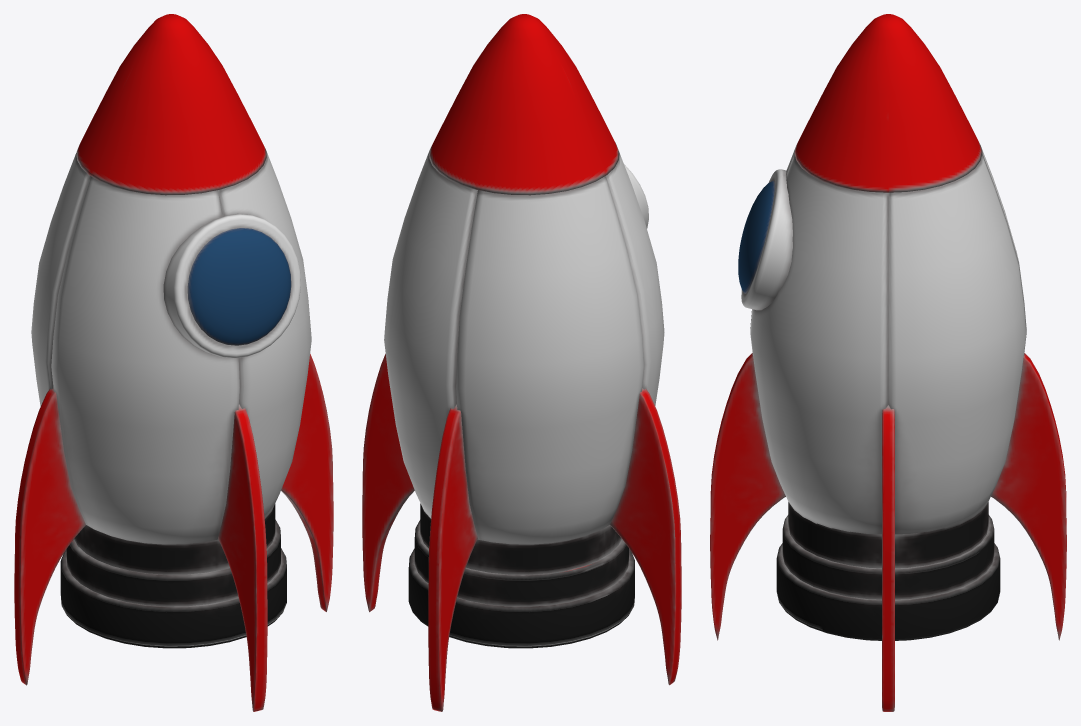
The picture shows the model from 3 angles, left to right: view 1: azimuth 30°, elevation 25°; view 2: azimuth 150°, elevation 25°; view 3: azimuth 270°, elevation 25°; orthographic projection.
Visible parts, largest first — view 1: Body, Wings, Tip, Engine, Window.001, Window; view 2: Body, Wings, Tip, Engine; view 3: Body, Wings, Tip, Engine, Window, Window.001.
Boxes of the visible parts, <box> form: Body: <box>31,150,311,544</box>; Wings: <box>14,354,333,711</box>; Tip: <box>76,14,266,195</box>; Engine: <box>60,504,286,648</box>; Window.001: <box>187,228,291,345</box>; Window: <box>163,213,300,358</box>; Body: <box>384,150,664,544</box>; Wings: <box>362,354,681,711</box>; Tip: <box>429,14,619,195</box>; Engine: <box>408,503,634,648</box>; Body: <box>750,147,1026,534</box>; Wings: <box>710,353,1066,711</box>; Tip: <box>794,14,982,192</box>; Engine: <box>776,502,1000,640</box>; Window: <box>741,169,792,310</box>; Window.001: <box>738,181,774,293</box>.
Bounding box in the file's own units: 1.63 × 3.12 × 1.63.
1 material, 1 textured.
